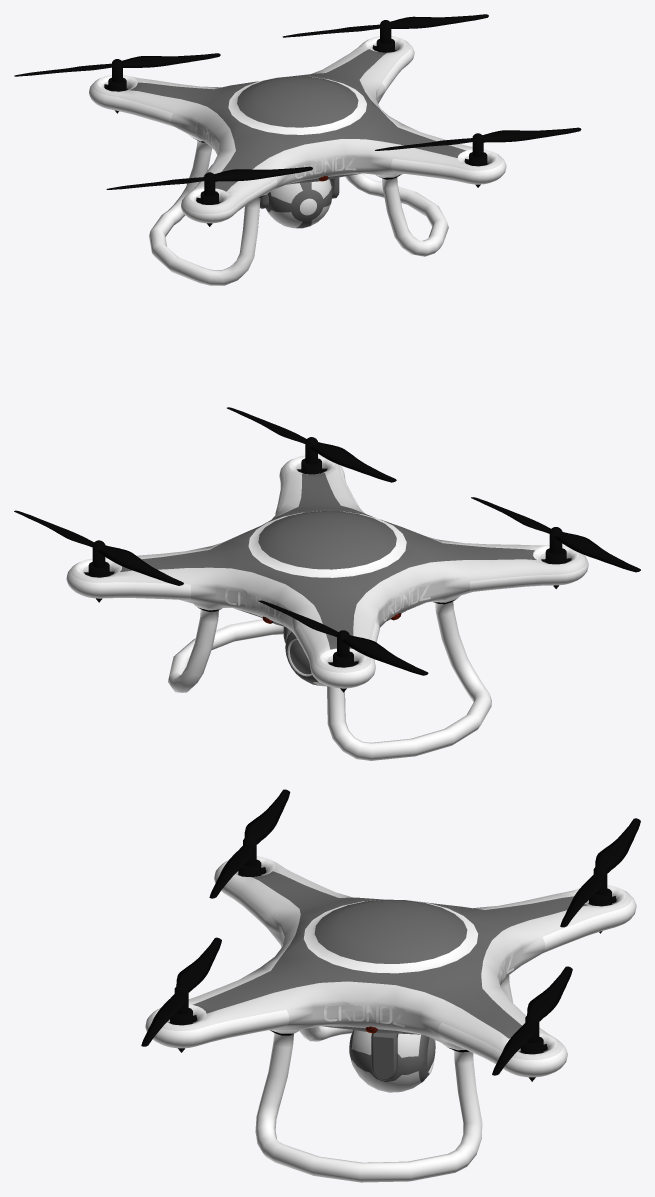
Rendered from drone.glb.
3 views of the same model, one above another, from view 1: azimuth 30°, elevation 25°; view 2: azimuth 150°, elevation 25°; view 3: azimuth 270°, elevation 25° (orthographic). The views are drawn at different scales.
Visible parts, largest first — view 1: G-__555564, G-__555582, G-__555825, G-__555825.002, G-__555825.006, G-__555825.004, G-__555744; view 2: G-__555564, G-__555825.002, G-__555825.006, G-__555825, G-__555825.004; view 3: G-__555564, G-__555582, G-__555825.006, G-__555825.004, G-__555825, G-__555825.002, G-__555708, G-__555717.
Boxes of the visible parts, x1,y1,x2,y2 form: G-__555564: (89, 36, 506, 285); G-__555582: (266, 179, 332, 228); G-__555825: (375, 127, 581, 157); G-__555825.002: (106, 166, 312, 196); G-__555825.006: (282, 14, 488, 43); G-__555825.004: (14, 53, 220, 82); G-__555744: (295, 155, 356, 178); G-__555564: (66, 455, 588, 760); G-__555825.002: (471, 497, 640, 572); G-__555825.006: (14, 510, 183, 585); G-__555825: (227, 407, 396, 482); G-__555825.004: (258, 600, 428, 675); G-__555564: (145, 856, 636, 1182); G-__555582: (349, 1030, 435, 1092); G-__555825.006: (492, 966, 572, 1075); G-__555825.004: (560, 818, 640, 927); G-__555825: (141, 937, 221, 1046); G-__555825.002: (209, 789, 290, 898); G-__555708: (371, 1033, 398, 1080); G-__555717: (324, 1002, 405, 1027).
Bounding box in the file's own units: 5.79 × 2.14 × 5.37.
Materials: 9 (3 with a texture image).
